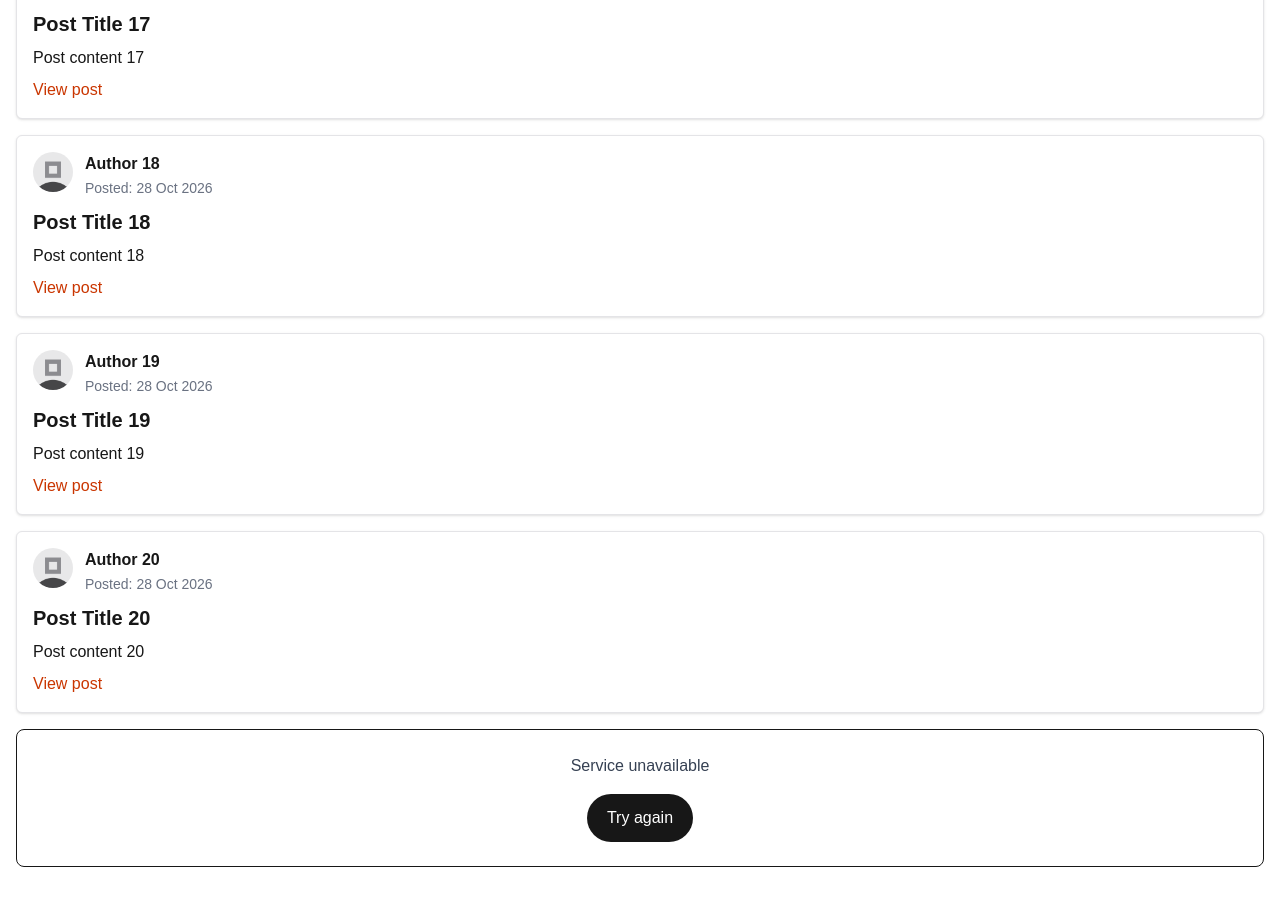
Scenario: FeedContainer › retries a failed second page without skipping it
(page scrolled)
Expected: the text "Service unavailable" is shown, [571, 757, 709, 774]
Click the button "Try again": (640, 818) [587, 794, 693, 842]
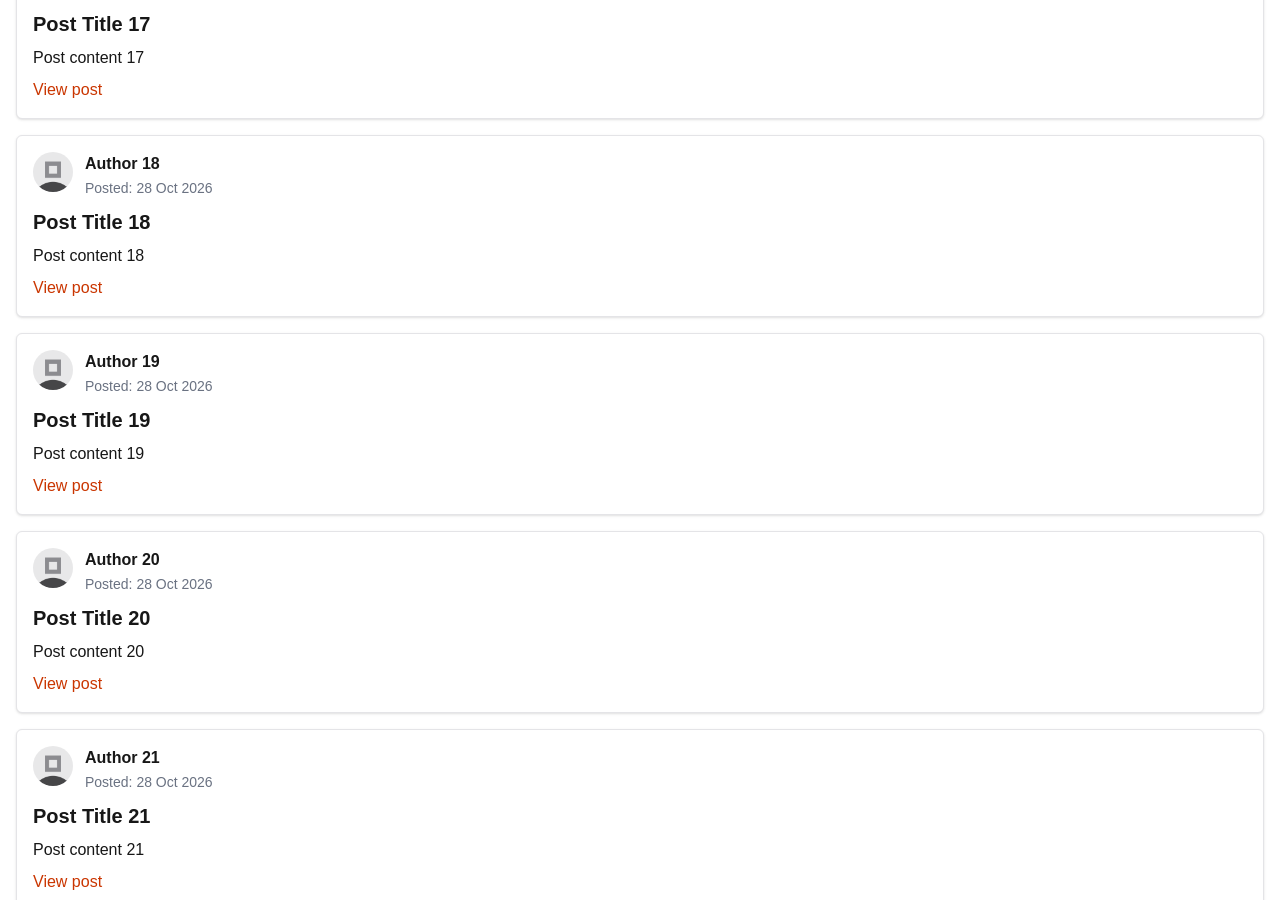
Result: the message "Service unavailable Try again" is gone
